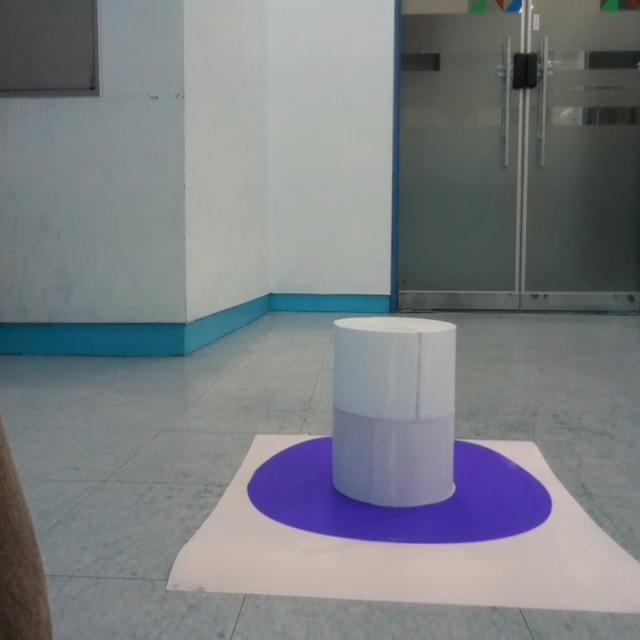cylinder: (332, 316, 457, 508)
